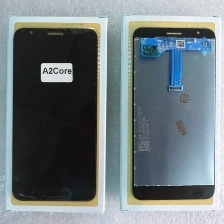phone: (8, 24, 102, 204), (127, 23, 218, 202)
